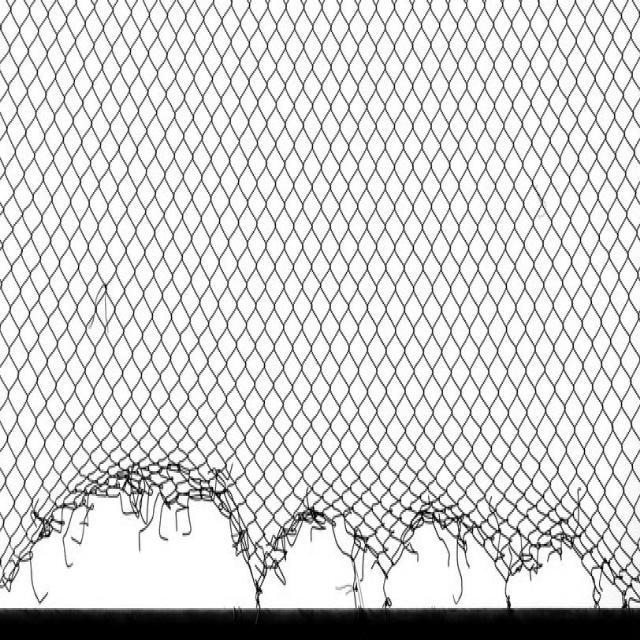fence line: (4, 458, 256, 598), (384, 500, 507, 602), (260, 511, 378, 600), (508, 503, 598, 606)
